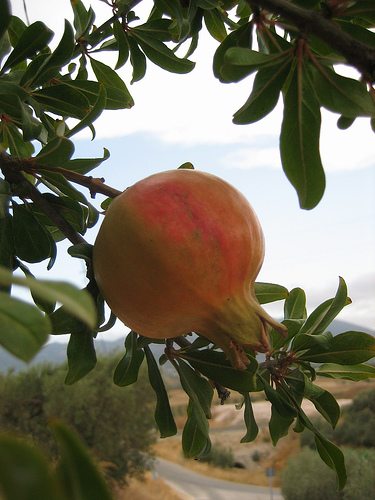pomogranate: (88, 165, 288, 371)
